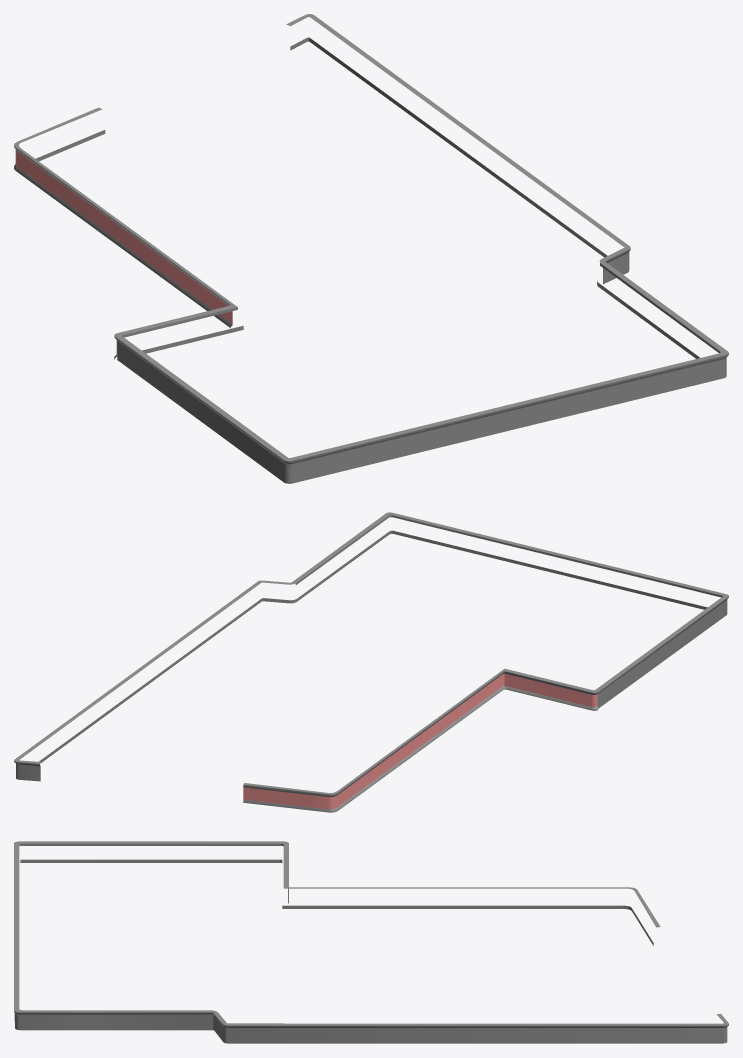
The model's file is S_Envi_Umeda_Building_008j.gltf.
3 renders of one model, top to bottom at view 1: azimuth 30°, elevation 25°; view 2: azimuth 150°, elevation 25°; view 3: azimuth 270°, elevation 25°, orthographic. The views are drawn at different scales.
Parts seen in each view (by area): view 1: S_Envi_Umeda_Building_008j; view 2: S_Envi_Umeda_Building_008j; view 3: S_Envi_Umeda_Building_008j.
Boxes of the visible parts, x1,y1,x2,y2 form: S_Envi_Umeda_Building_008j: [14, 14, 728, 483]; S_Envi_Umeda_Building_008j: [14, 512, 728, 812]; S_Envi_Umeda_Building_008j: [14, 841, 728, 1043].
Size of the model in its own units: 17.08 by 0.8004 by 28.04.
